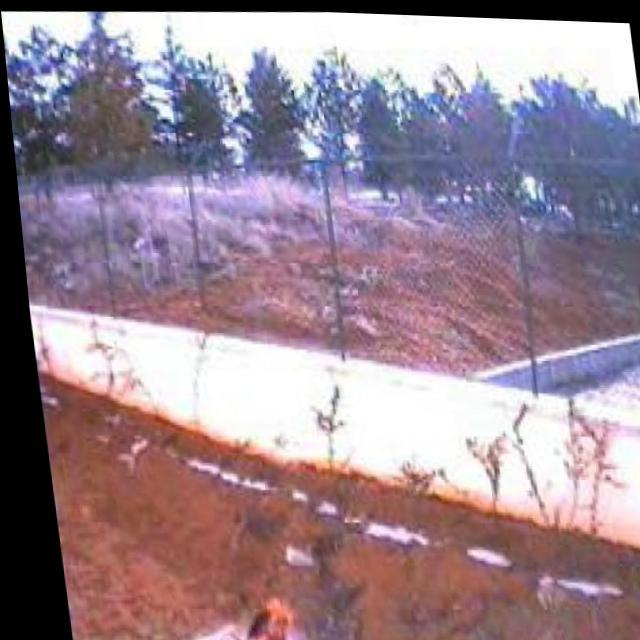fire: (189, 584, 291, 640)
